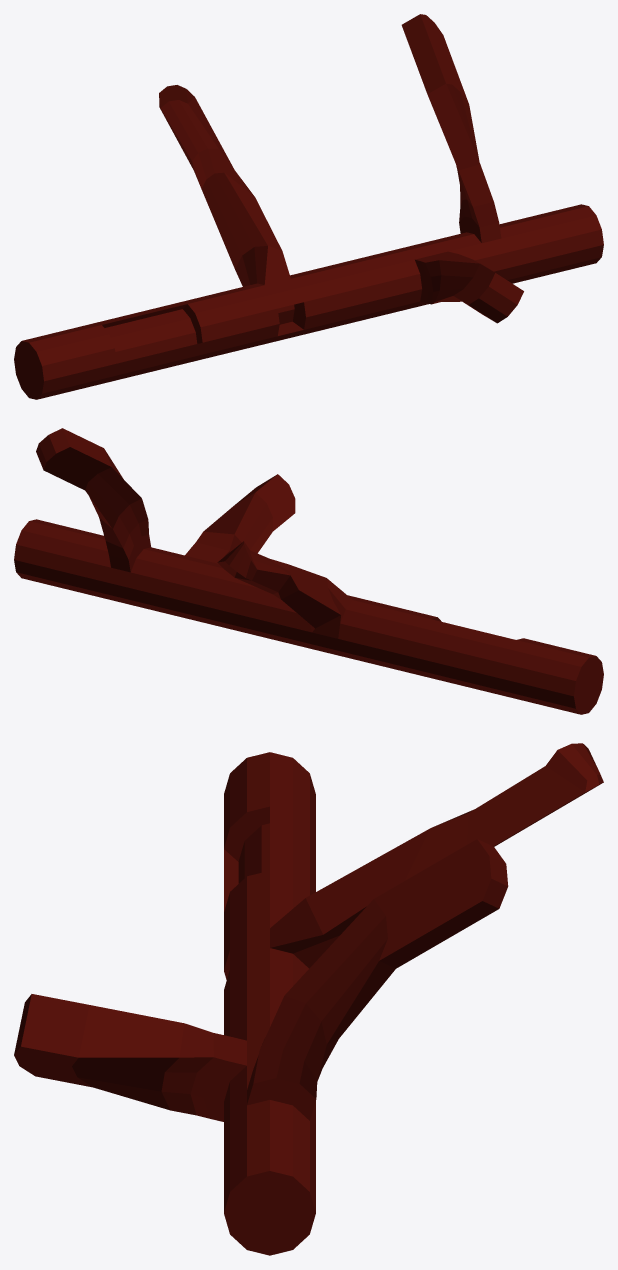
The model's file is patyki.fbx.
The picture shows the model from 3 angles, top to bottom: view 1: azimuth 30°, elevation 25°; view 2: azimuth 150°, elevation 25°; view 3: azimuth 270°, elevation 25°; orthographic projection. The views are drawn at different scales.
Visible parts, largest first — view 1: Cylinder; view 2: Cylinder; view 3: Cylinder.
Boxes of the visible parts, x1=… form: Cylinder: x1=14, y1=14, x2=603, y2=399; Cylinder: x1=14, y1=428, x2=603, y2=714; Cylinder: x1=14, y1=743, x2=603, y2=1255.
Bounding box in the file's own units: 95.82 × 36.39 × 57.05.
